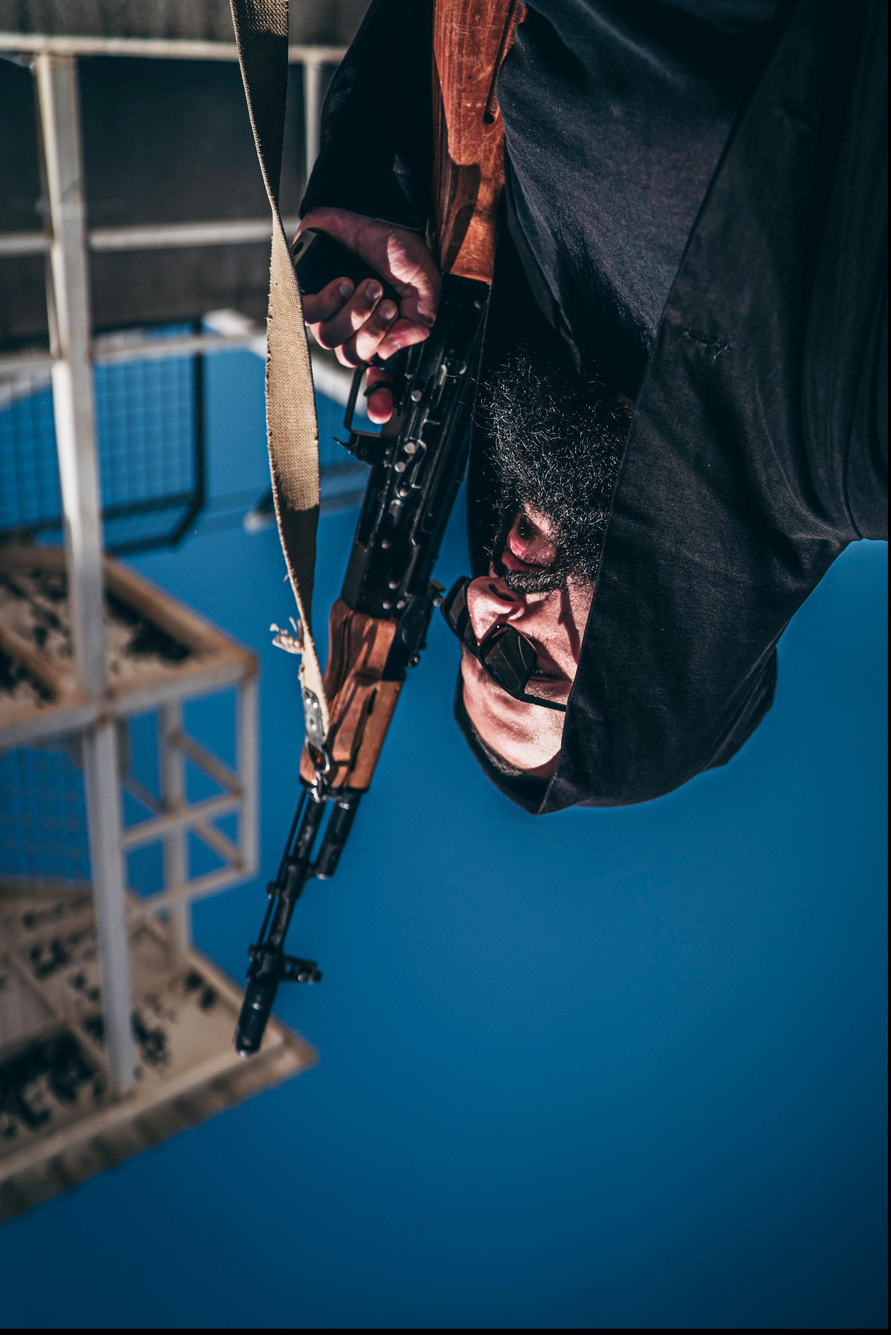larga: (231, 0, 537, 1059)
